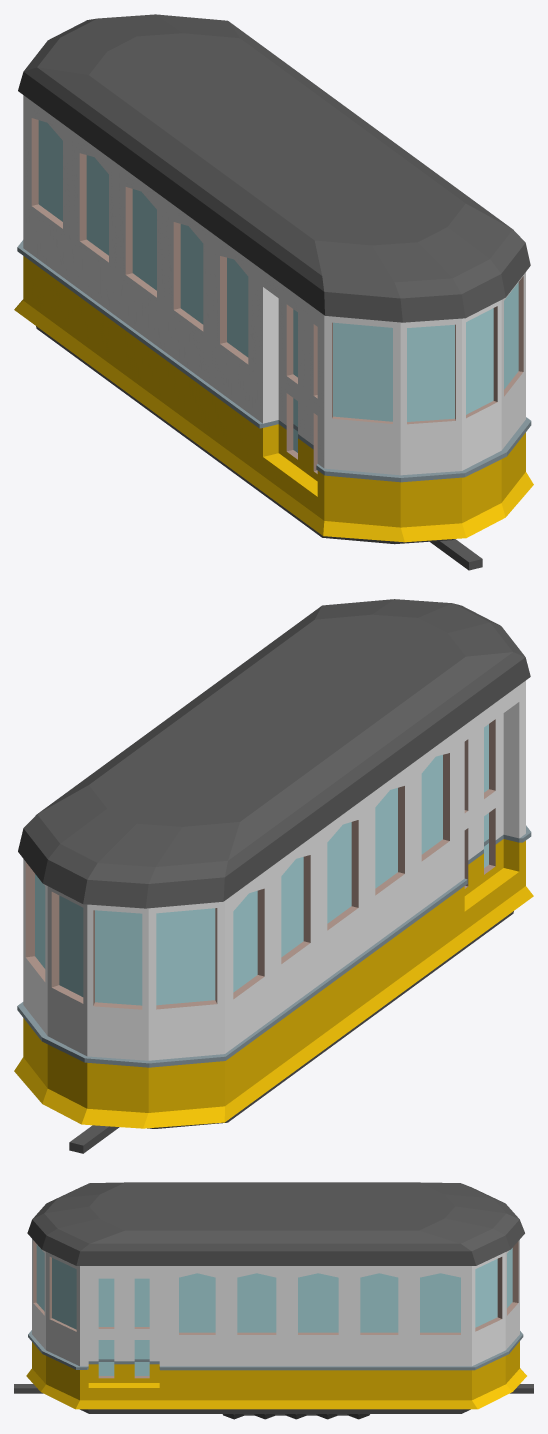
The model's file is scene_zU791TdSul.glb.
3 renders of one model, top to bottom at view 1: azimuth 30°, elevation 25°; view 2: azimuth 150°, elevation 25°; view 3: azimuth 270°, elevation 25°, orthographic. The views are drawn at different scales.
Parts seen in each view (by area): view 1: Tram_Cube.028; view 2: Tram_Cube.028; view 3: Tram_Cube.028.
Boxes of the visible parts, box(x1,y1,x2,y2) form: Tram_Cube.028: box(14, 14, 533, 570); Tram_Cube.028: box(14, 599, 533, 1153); Tram_Cube.028: box(14, 1182, 533, 1419).
Size of the model in its own units: 3.23 by 4.41 by 10.61.
